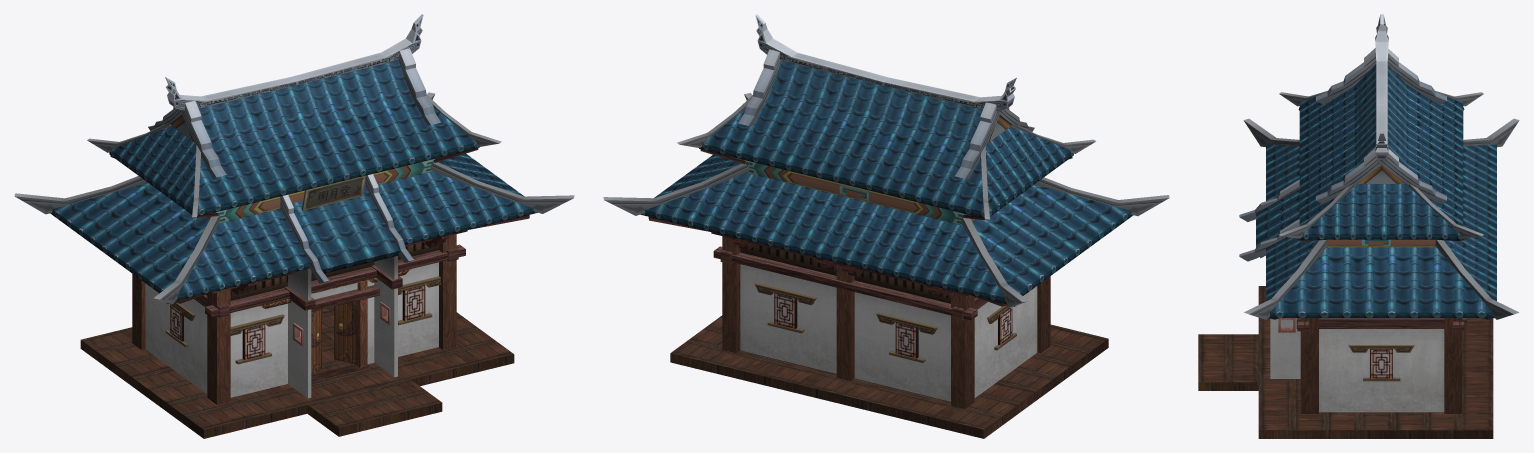
Rendered from chinese building 002 20180829(attach all).fbx.
3 renders of one model, left to right at view 1: azimuth 30°, elevation 25°; view 2: azimuth 150°, elevation 25°; view 3: azimuth 270°, elevation 25°, orthographic. The views are drawn at different scales.
Parts seen in each view (by area): view 1: chinese building 002; view 2: chinese building 002; view 3: chinese building 002.
Part boxes in pixels (x1,y1,x2,y2): chinese building 002: [14, 14, 574, 438]; chinese building 002: [603, 14, 1169, 438]; chinese building 002: [1198, 14, 1519, 438].
Size of the model in its own units: 4142 by 2892 by 2874.
2 materials, 2 textured.
